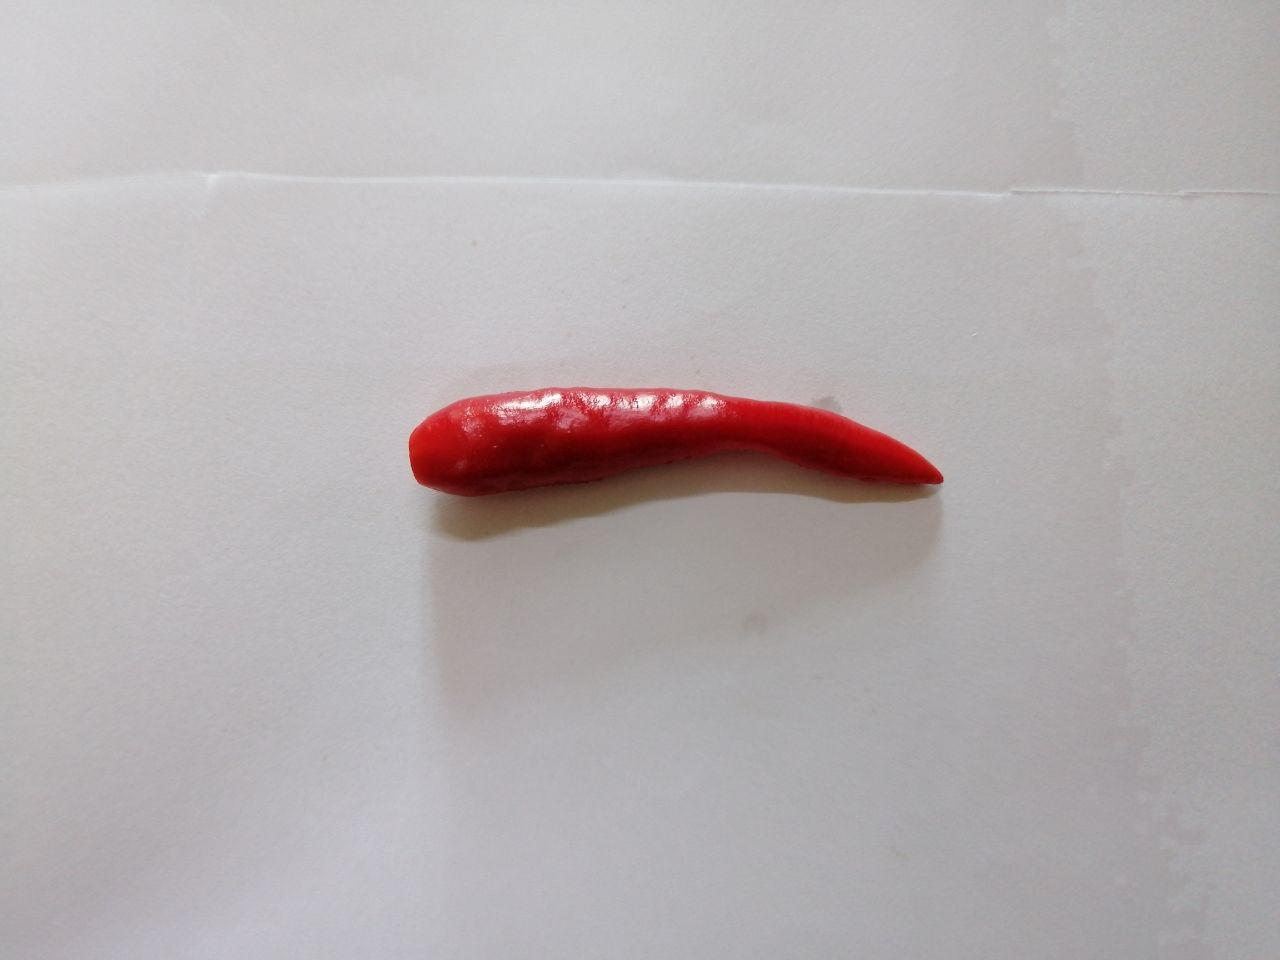lada merah: (371, 355, 975, 530)
